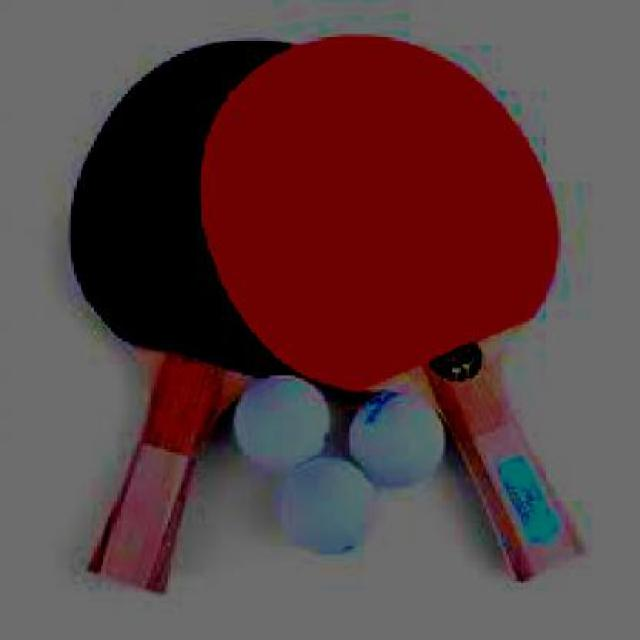table_tennis_racket: (194, 34, 570, 390), (37, 25, 349, 400)
